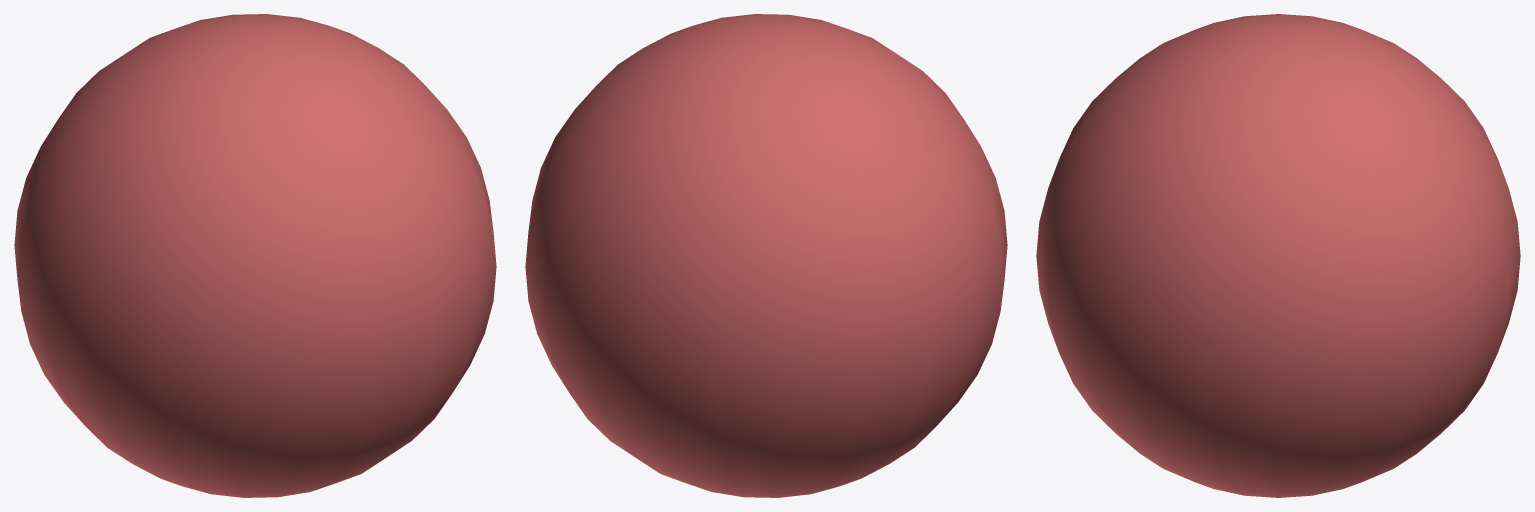
The model's file is enemyBossBullet.fbx.
3 views of the same model, side by side, from view 1: azimuth 30°, elevation 25°; view 2: azimuth 150°, elevation 25°; view 3: azimuth 270°, elevation 25° (orthographic).
Visible parts, largest first — view 1: pSphere3; view 2: pSphere3; view 3: pSphere3.
Part boxes in pixels (bbox=[...]): pSphere3: bbox=[14, 14, 496, 497]; pSphere3: bbox=[525, 14, 1007, 497]; pSphere3: bbox=[1036, 14, 1520, 497].
Size of the model in its own units: 5.62 by 5.62 by 5.62.
